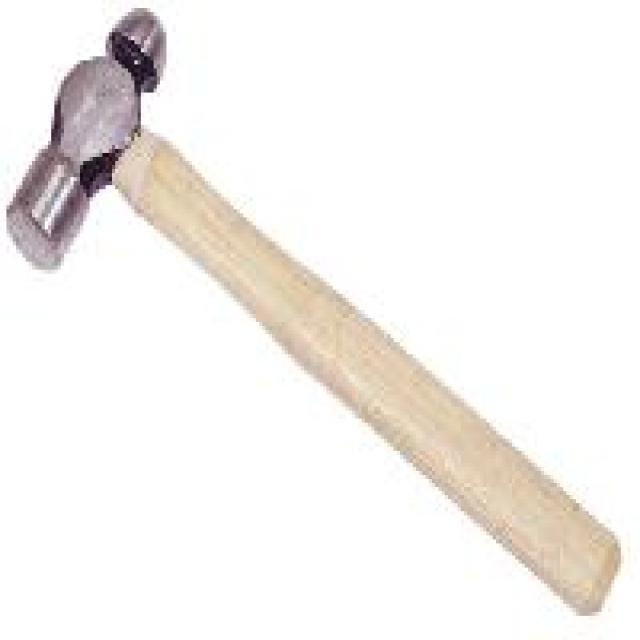hammer: (7, 4, 628, 626)
